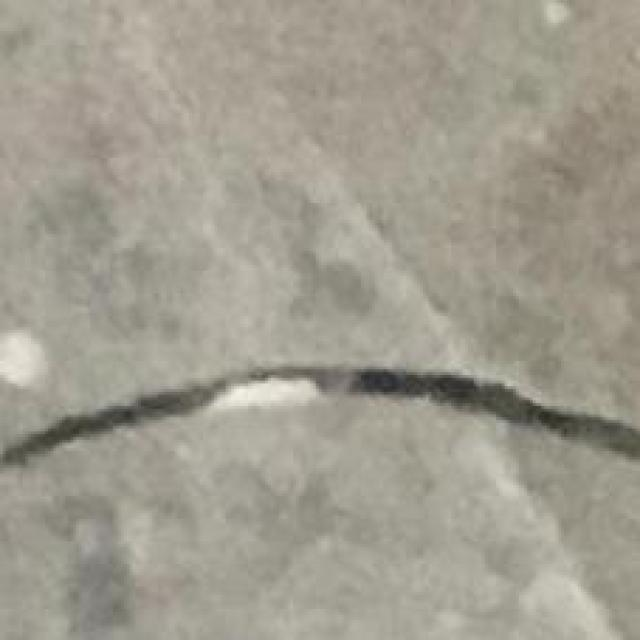horizontal crack: (0, 366, 639, 467)
